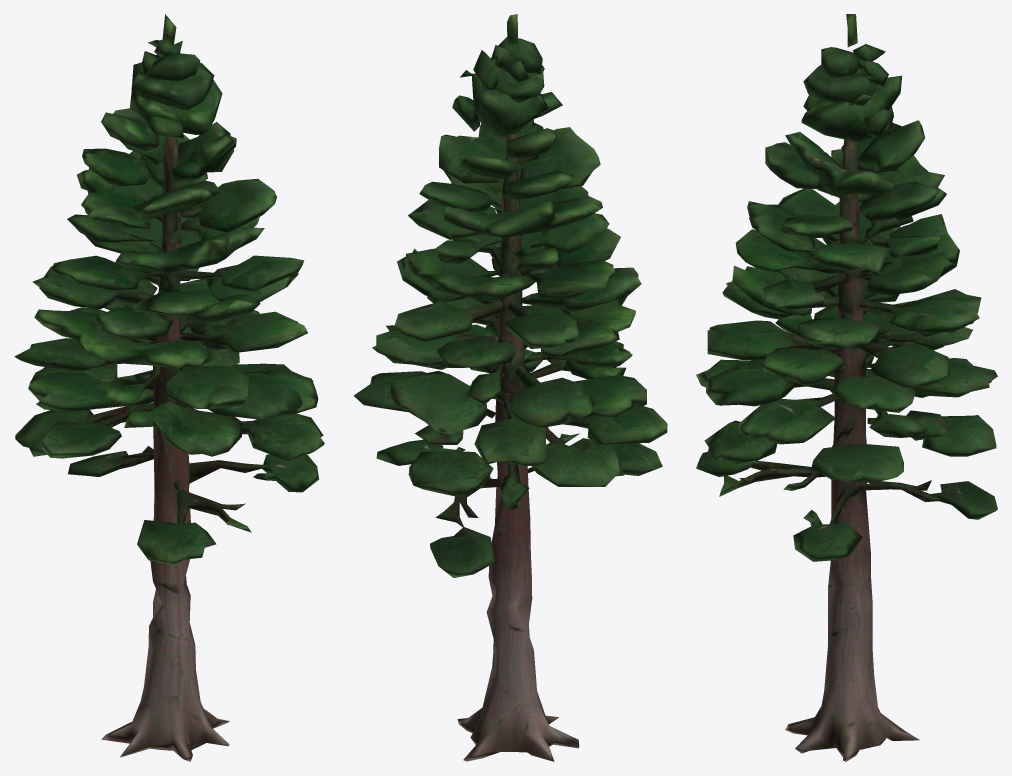
Rendered from pine_lo.glb.
3 views of the same model, side by side, from view 1: azimuth 30°, elevation 25°; view 2: azimuth 150°, elevation 25°; view 3: azimuth 270°, elevation 25° (orthographic).
Parts seen in each view (by area): view 1: pine; view 2: pine; view 3: pine.
Boxes of the visible parts, box(x1,y1,x2,y2) form: pine: box(14, 14, 324, 761); pine: box(353, 14, 667, 761); pine: box(696, 14, 997, 761).
Bounding box in the file's own units: 0.7632 × 1.89 × 0.7162.
Materials: 1 (1 with a texture image).
